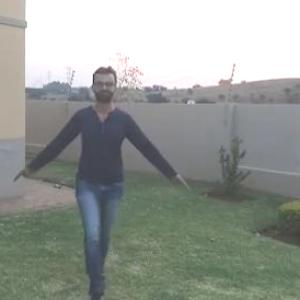land: (43, 79, 156, 275)
